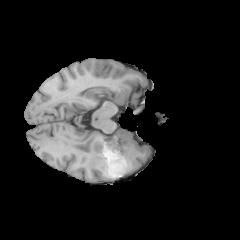glioma: (88, 132, 141, 179)
